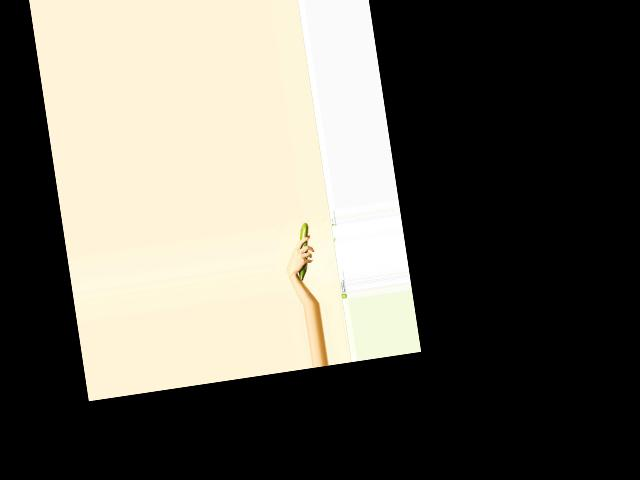cucumber: (292, 222, 316, 281)
